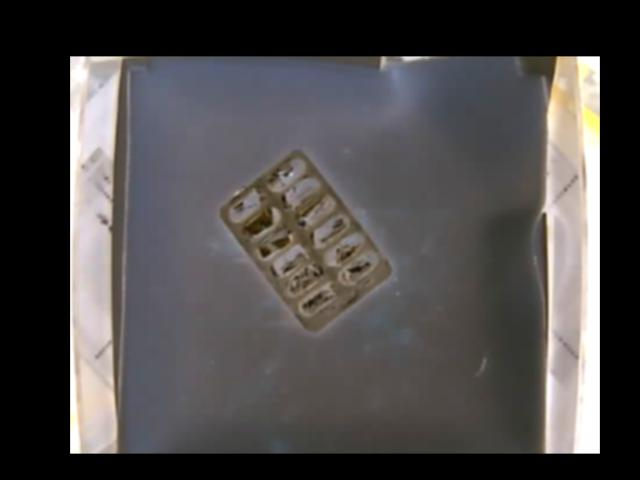Medicine: (222, 148, 392, 337)
